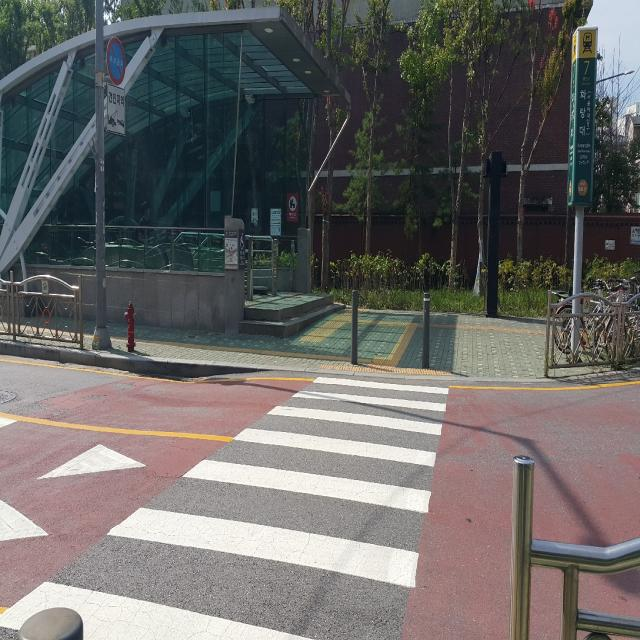횡단보도: (0, 370, 450, 639)
